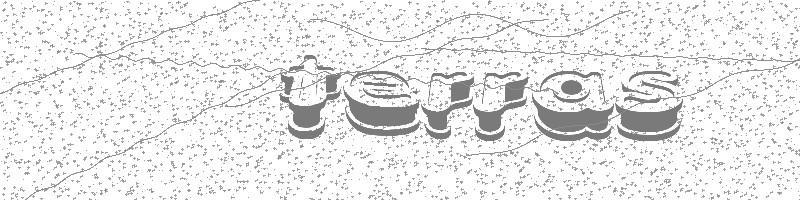a: (533, 69, 613, 143)
e: (343, 66, 422, 134)
r: (422, 67, 475, 139), (477, 70, 530, 141)
s: (617, 66, 687, 142)
t: (275, 52, 346, 138)
